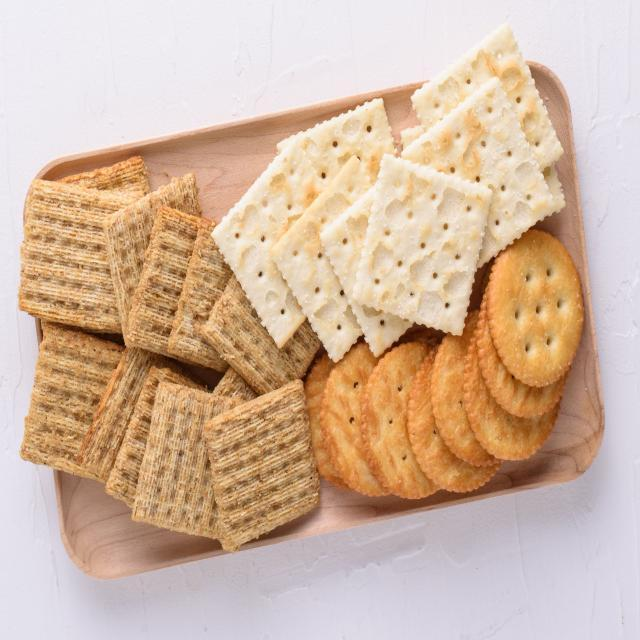Cracker: (402, 91, 562, 265), (355, 149, 481, 341), (131, 377, 255, 554), (13, 173, 144, 332), (203, 375, 323, 545)
